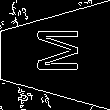M_W: (29, 32, 81, 78)
